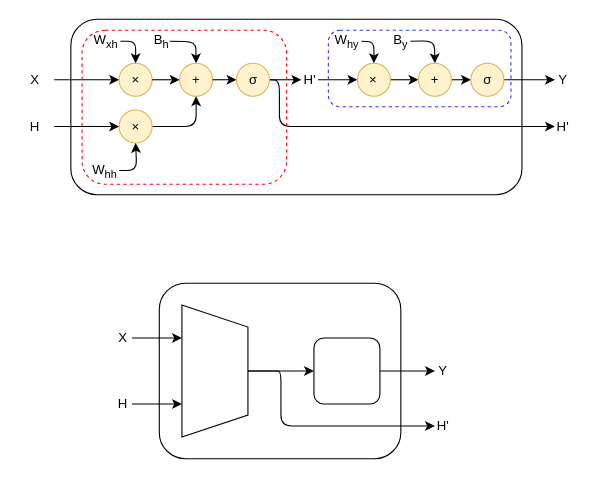
The diagram is 591 pixels wide and 479 high, and some of its shapes have lost their labels. The shapes that lost their labels are listed below. From the top down, each one's box as (x1, y1, x2, y2) in pixels, then its label:
(181, 304, 248, 437): Gate
(313, 337, 380, 404): FC
